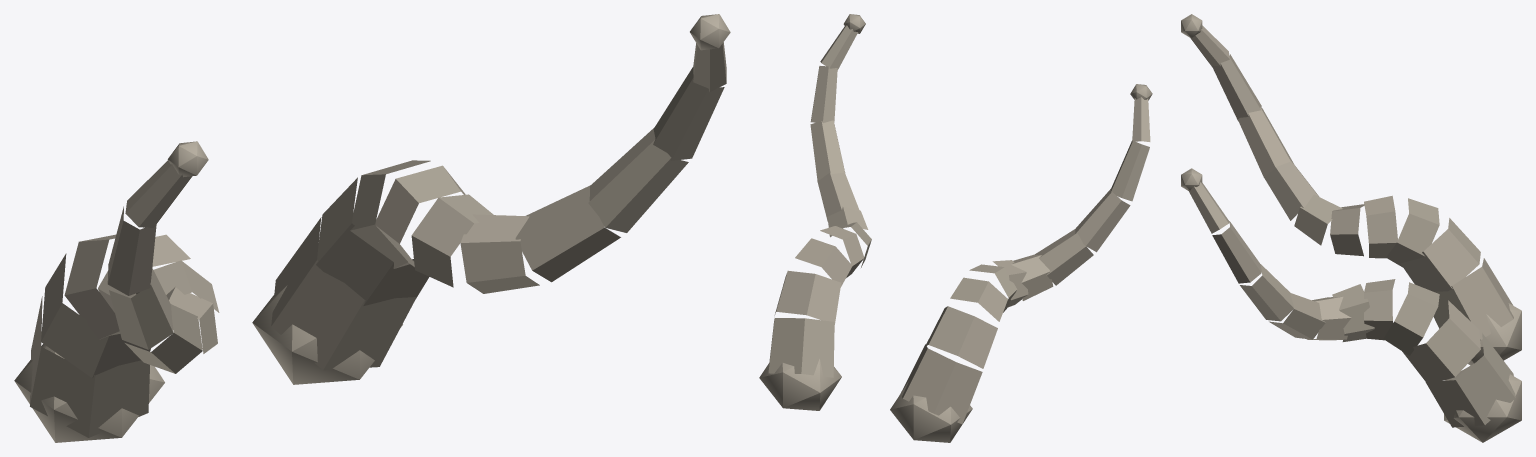
The model's file is goat_horns_spiral.glb.
3 renders of one model, left to right at view 1: azimuth 30°, elevation 25°; view 2: azimuth 150°, elevation 25°; view 3: azimuth 270°, elevation 25°, orthographic. The views are drawn at different scales.
Visible parts, largest first — view 1: goat_horns_spiral; view 2: goat_horns_spiral; view 3: goat_horns_spiral.
Boxes of the visible parts, bbox=[...] form: goat_horns_spiral: bbox=[14, 14, 730, 442]; goat_horns_spiral: bbox=[759, 14, 1152, 442]; goat_horns_spiral: bbox=[1181, 14, 1521, 442].
Size of the model in its own units: 0.2025 by 0.1611 by 0.1638.
